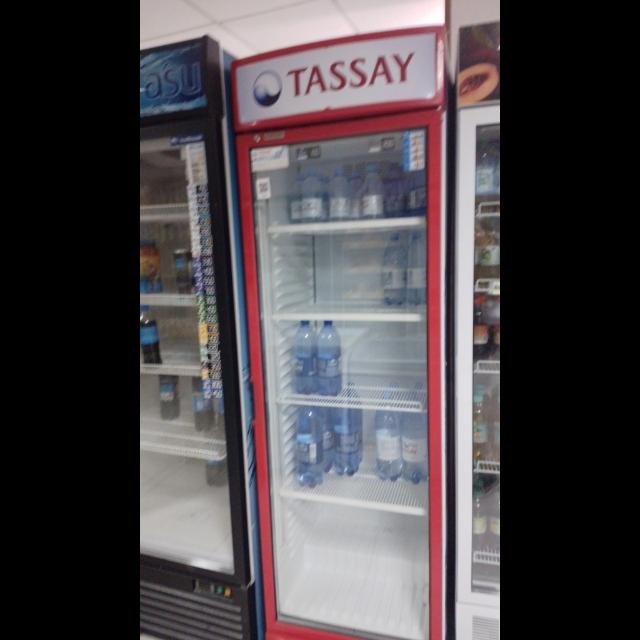Cooling-Display: (229, 23, 449, 639)
